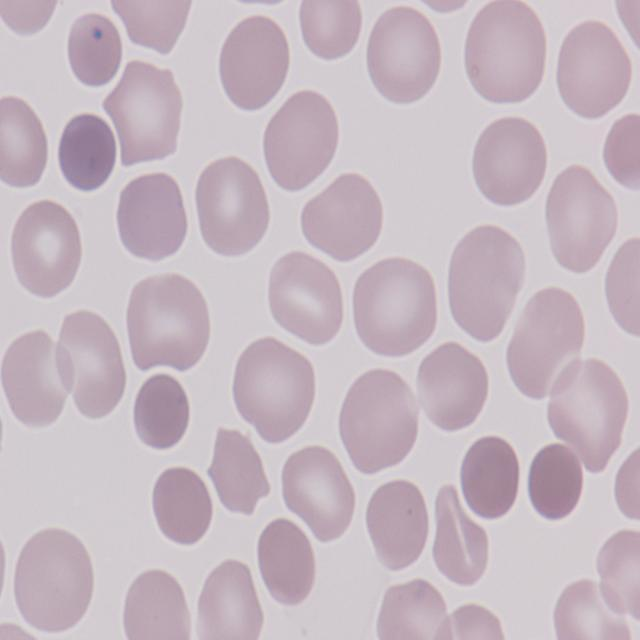RBC: (346, 252, 441, 360), (446, 222, 528, 346), (461, 0, 552, 111), (542, 358, 630, 470), (231, 336, 320, 446), (10, 525, 98, 636), (336, 364, 421, 474), (123, 269, 210, 376), (544, 160, 622, 274), (192, 154, 274, 262), (553, 13, 633, 123), (364, 3, 446, 110), (101, 58, 183, 164), (54, 309, 129, 423), (262, 86, 342, 192), (8, 194, 87, 300), (469, 112, 550, 215), (278, 443, 360, 543), (265, 251, 348, 349), (110, 166, 190, 266), (215, 11, 292, 114), (300, 172, 386, 262), (0, 327, 74, 430), (416, 338, 492, 437), (361, 476, 432, 572), (206, 426, 272, 522), (253, 516, 318, 612), (195, 555, 264, 640), (122, 564, 192, 640), (0, 93, 53, 189), (550, 577, 628, 640), (377, 574, 450, 640), (599, 232, 640, 344), (108, 0, 188, 56), (296, 0, 362, 67), (595, 529, 640, 623), (597, 112, 640, 194), (610, 441, 640, 532), (0, 0, 61, 39), (613, 0, 640, 62), (394, 0, 482, 13), (0, 617, 49, 640), (0, 518, 10, 628)
Spherocyte: (458, 432, 523, 524), (50, 107, 119, 193), (147, 466, 214, 552), (127, 368, 192, 456), (64, 12, 126, 99), (525, 442, 586, 522)
